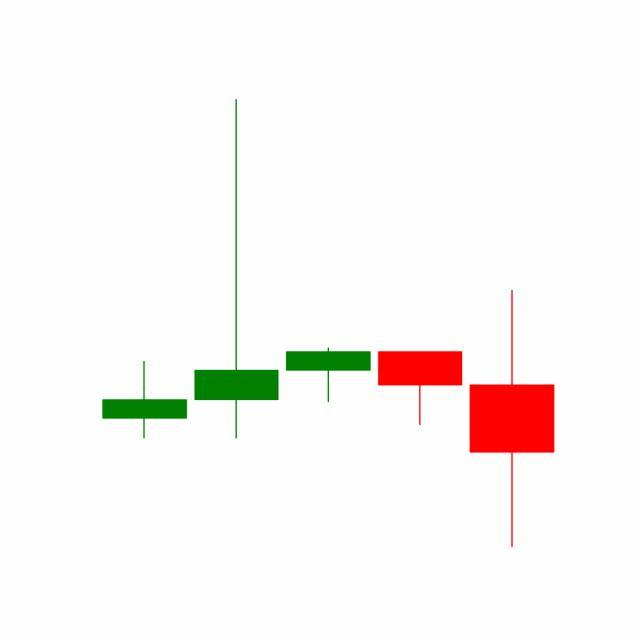Hammer: (374, 351, 468, 427)
